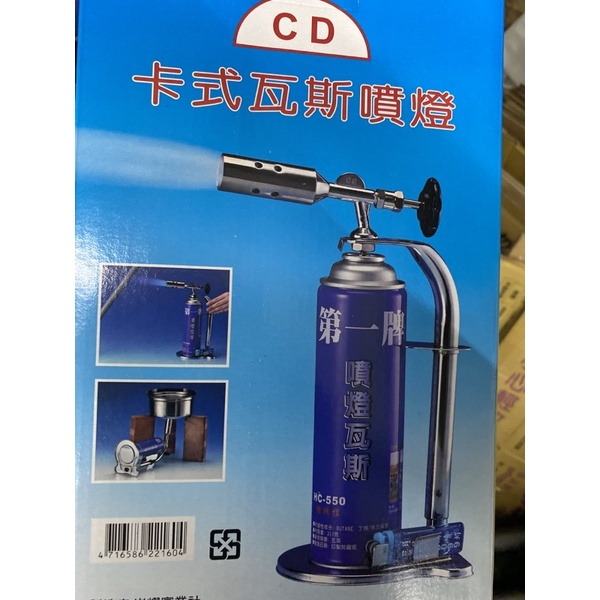gastorch: (215, 144, 478, 590), (160, 277, 215, 364), (117, 414, 179, 477)
